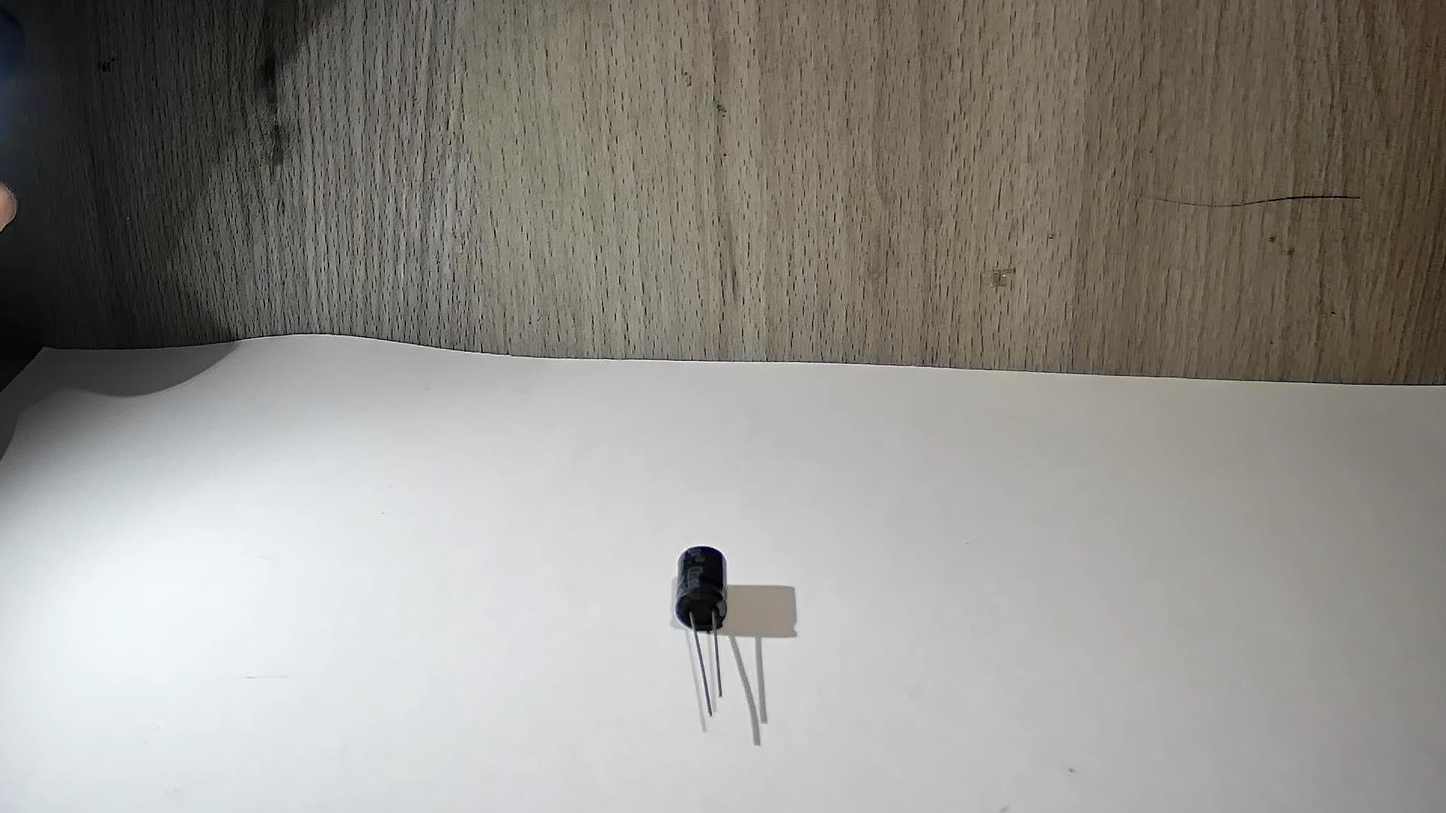Capacitor: (633, 520, 779, 751)
